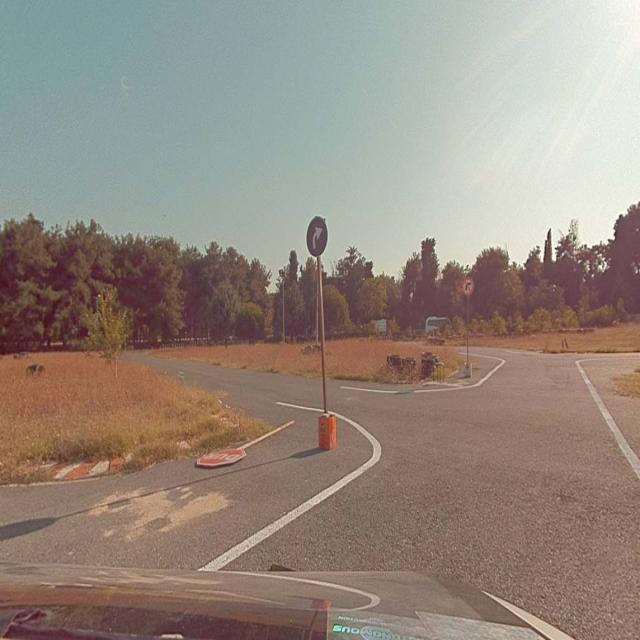sag: (307, 218, 328, 254)
sagadonulmez: (463, 277, 474, 295)
